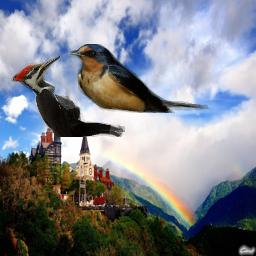Swallow: (70, 44, 210, 113)
Woodpecker: (7, 56, 125, 137)
